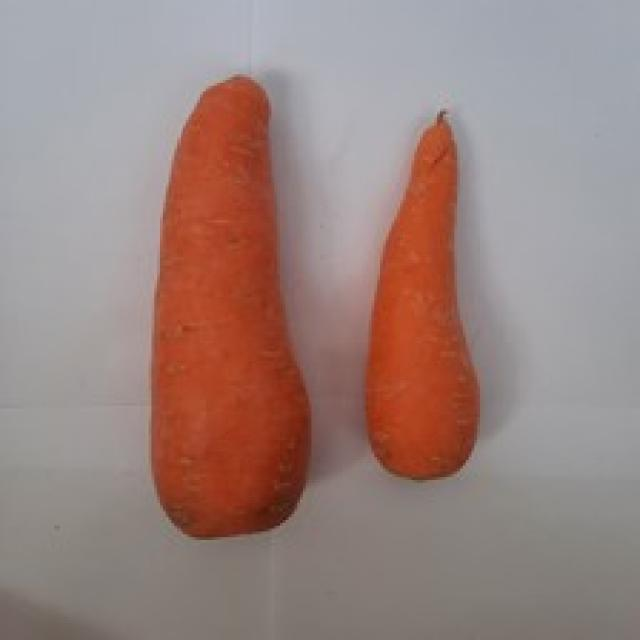Fresh_Carrot: (154, 70, 313, 548), (364, 115, 469, 476)
